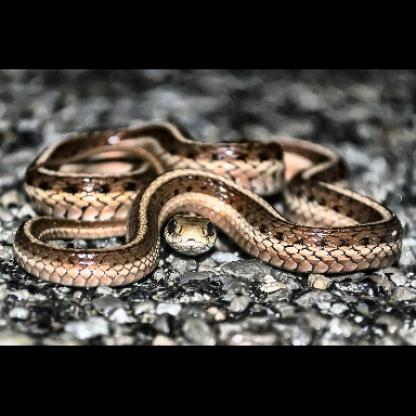Snake: (14, 117, 404, 293)
